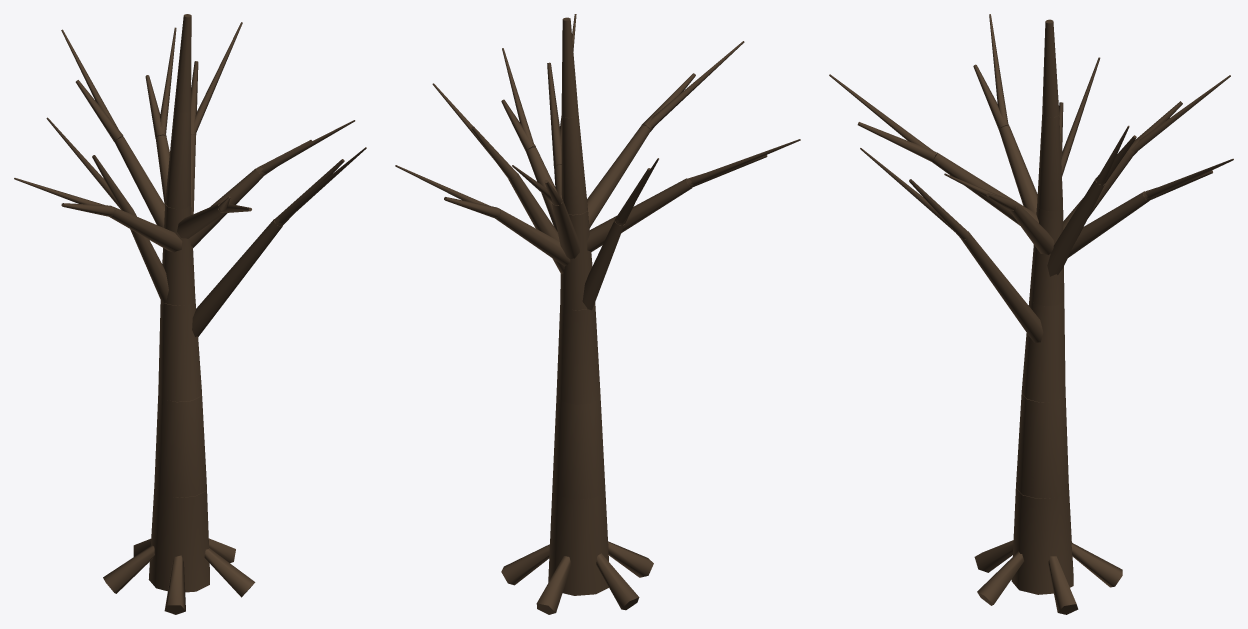
The model's file is seca.glb.
3 renders of one model, left to right at view 1: azimuth 30°, elevation 25°; view 2: azimuth 150°, elevation 25°; view 3: azimuth 270°, elevation 25°, orthographic.
Parts seen in each view (by area): view 1: Arvore_seca_18; view 2: Arvore_seca_18; view 3: Arvore_seca_18.
Part boxes in pixels (bbox=[...]): Arvore_seca_18: bbox=[14, 14, 366, 614]; Arvore_seca_18: bbox=[395, 14, 800, 614]; Arvore_seca_18: bbox=[829, 14, 1233, 614].
Size of the model in its own units: 4.84 by 8.23 by 5.28.
